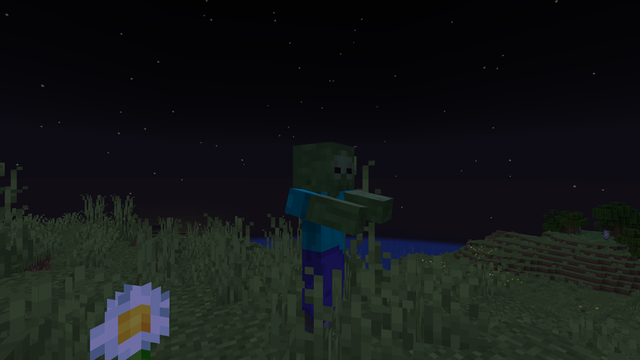zombies: (289, 146, 361, 346)
